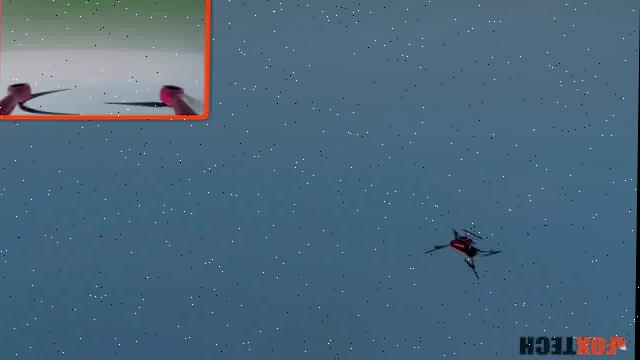drone: (418, 224, 510, 288)
